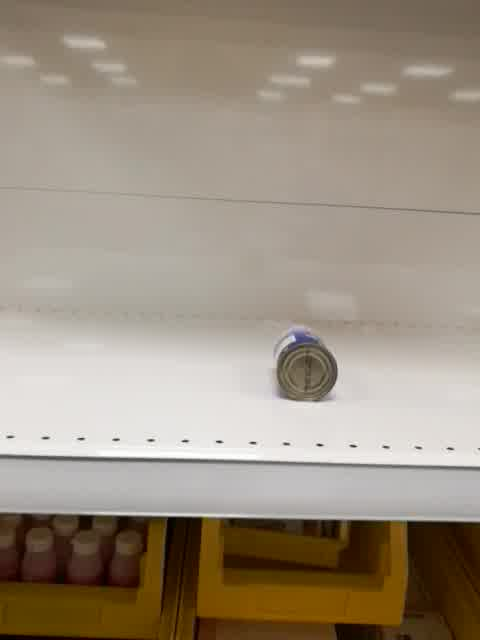sardine: (273, 322, 339, 401)
